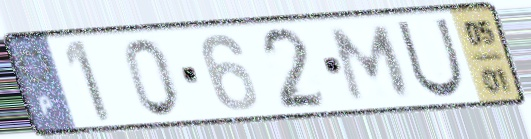0: (120, 34, 185, 120)
1: (61, 36, 115, 126)
2: (260, 25, 330, 110)
6: (196, 30, 261, 114)
M: (328, 23, 415, 105)
U: (392, 15, 468, 101)
